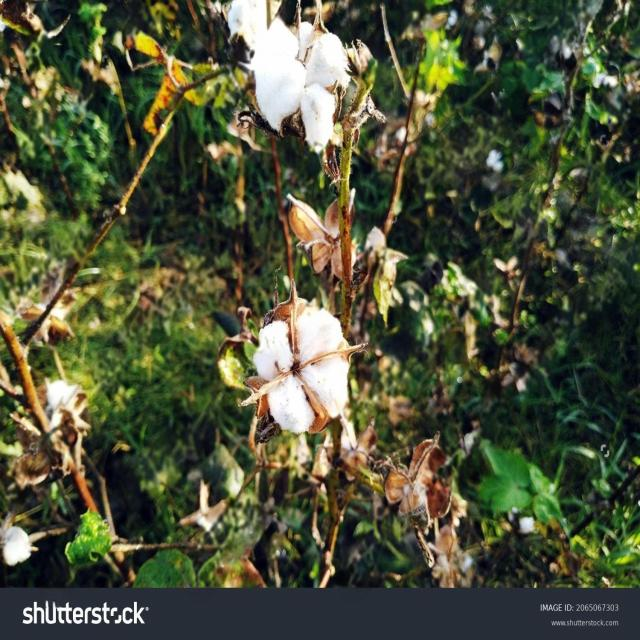Leaf: (241, 274, 381, 449), (240, 4, 358, 168)
